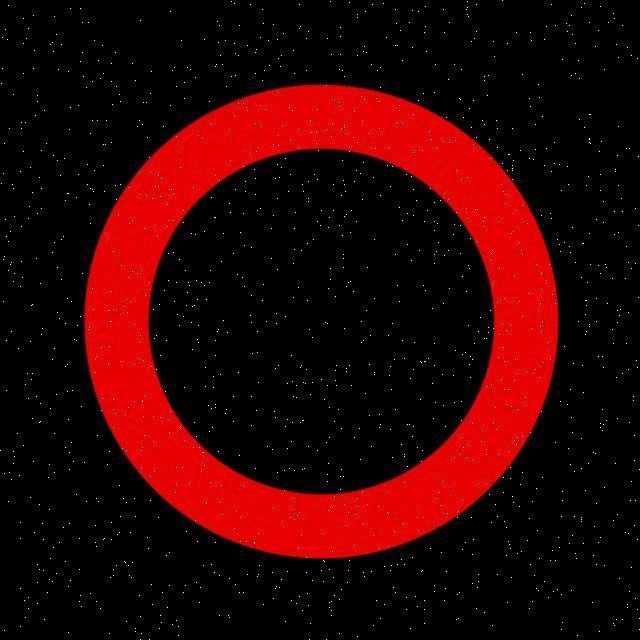Circle: (77, 74, 560, 566)
